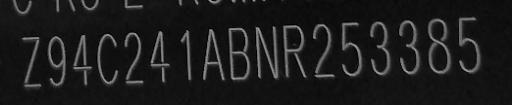letter: (452, 13, 486, 78), (197, 22, 229, 89), (336, 18, 370, 81), (118, 27, 150, 90), (423, 14, 453, 79), (280, 20, 310, 85), (251, 20, 281, 83), (145, 26, 175, 89), (366, 18, 396, 79), (396, 14, 424, 79), (308, 18, 336, 83), (226, 22, 254, 85), (93, 31, 121, 90), (174, 23, 200, 86), (44, 32, 72, 89), (18, 33, 46, 90), (69, 30, 95, 91)
